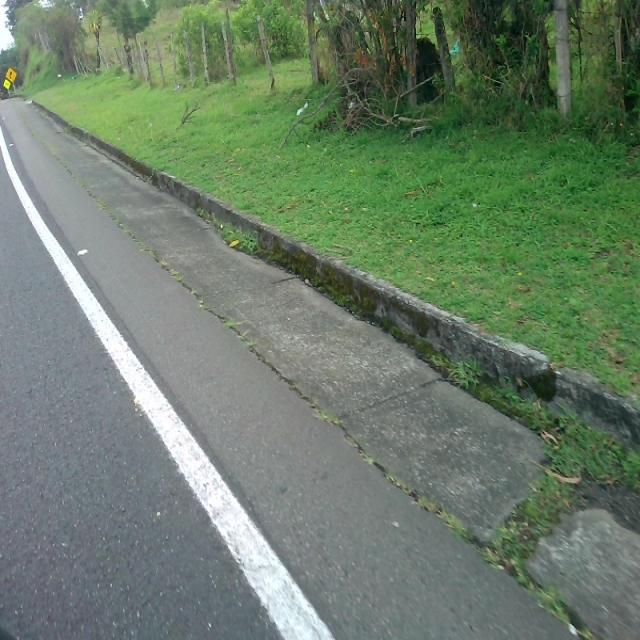DITCH: (3, 95, 637, 638)
